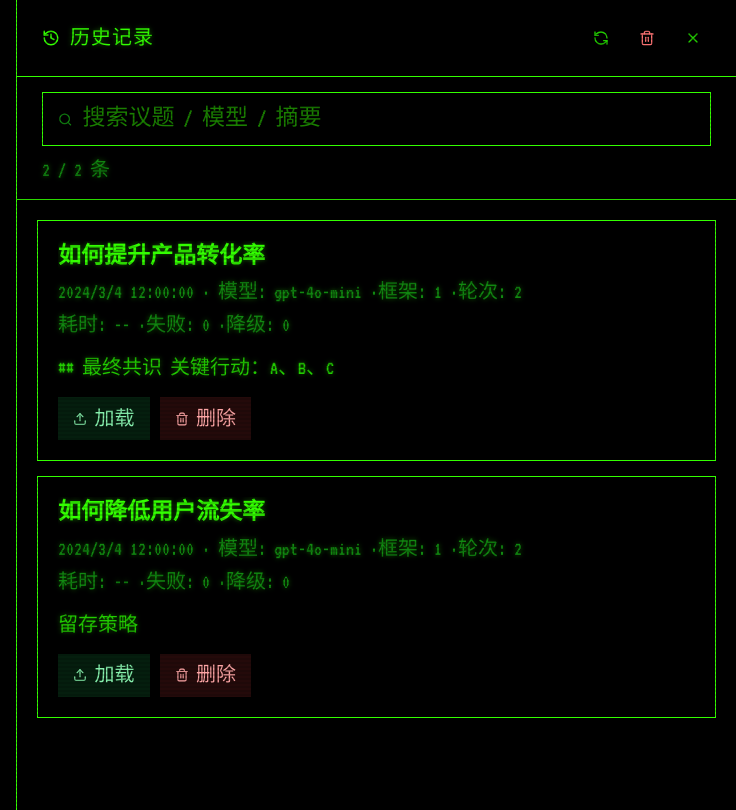
Scenario: HistoryPanel › filters items based on search query
The image size is (736, 810).
In the field with placeholder "搜索议题 / 模型 / 摘要": (389, 119) [82,103,695,135], type "流失"
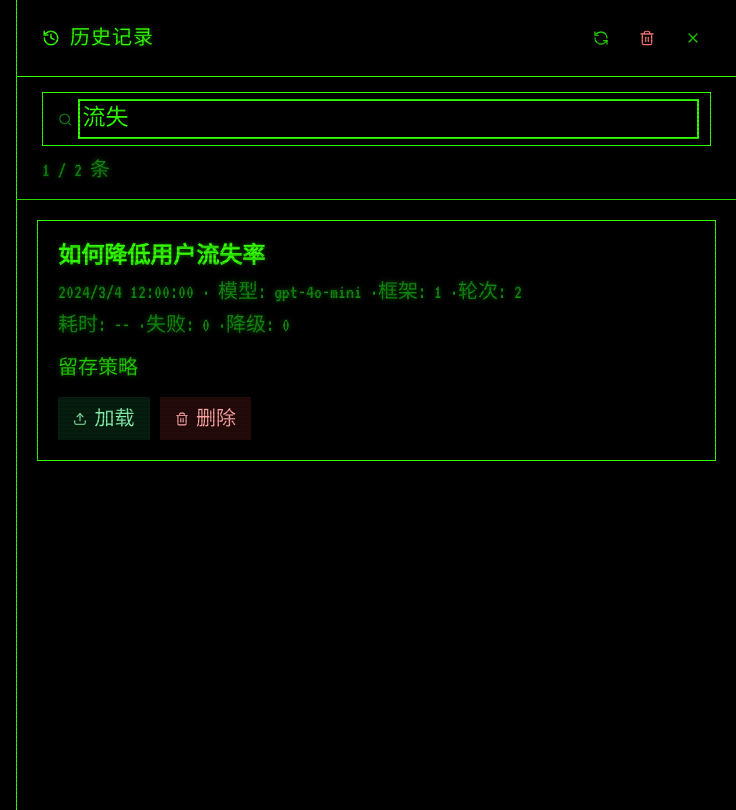
Expected: the text "如何降低用户流失率" is shown, [58,245,265,268]
Expected: the text "如何提升产品转化率" is gone
